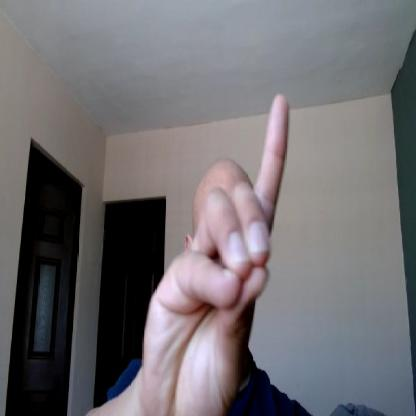D: (142, 94, 290, 416)
